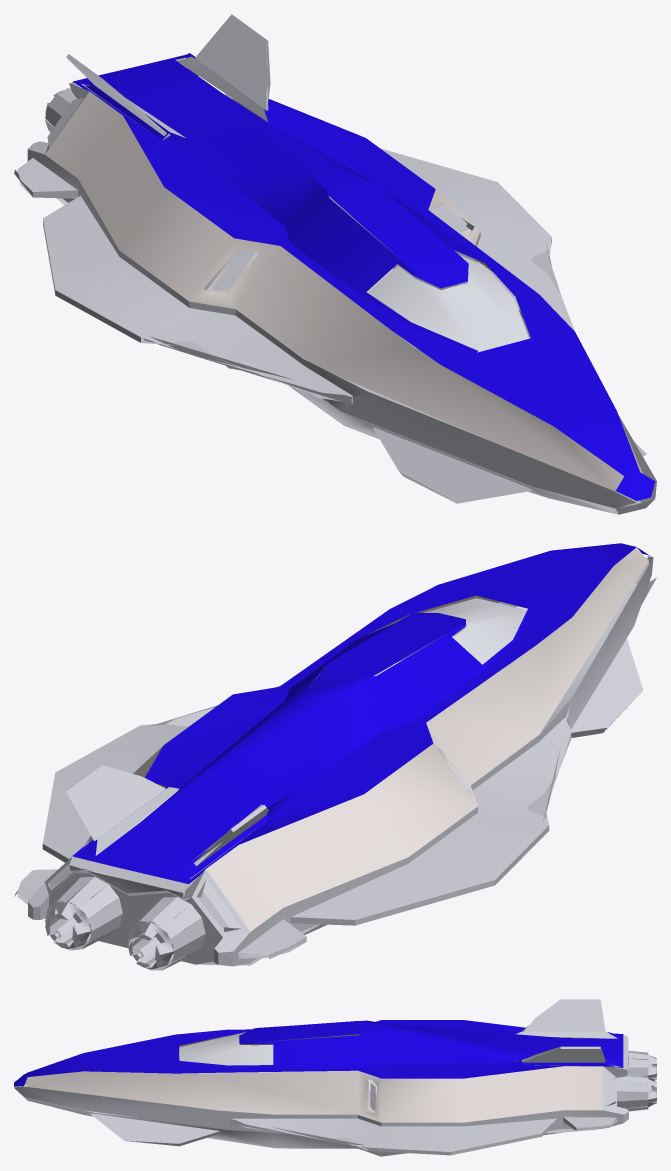
The model's file is spaceship-05.glb.
3 renders of one model, top to bottom at view 1: azimuth 30°, elevation 25°; view 2: azimuth 150°, elevation 25°; view 3: azimuth 270°, elevation 25°, orthographic. The views are drawn at different scales.
Parts seen in each view (by area): view 1: ship.003, ship.001, ship.002, ship.204; view 2: ship.001, ship.003, ship.002, ship.204; view 3: ship.001, ship.002, ship.003, ship.204.
Boxes of the visible parts, <box> form: ship.003: <box>73,53,655,500</box>; ship.001: <box>14,14,656,514</box>; ship.002: <box>45,91,642,492</box>; ship.204: <box>368,255,529,352</box>; ship.001: <box>14,556,656,970</box>; ship.003: <box>72,543,650,884</box>; ship.002: <box>66,547,648,931</box>; ship.204: <box>423,598,526,664</box>; ship.001: <box>14,999,656,1156</box>; ship.002: <box>26,1034,602,1122</box>; ship.003: <box>14,1020,623,1086</box>; ship.204: <box>179,1032,273,1065</box>.
Bounding box in the file's own units: 8.14 × 3.04 × 17.24.
